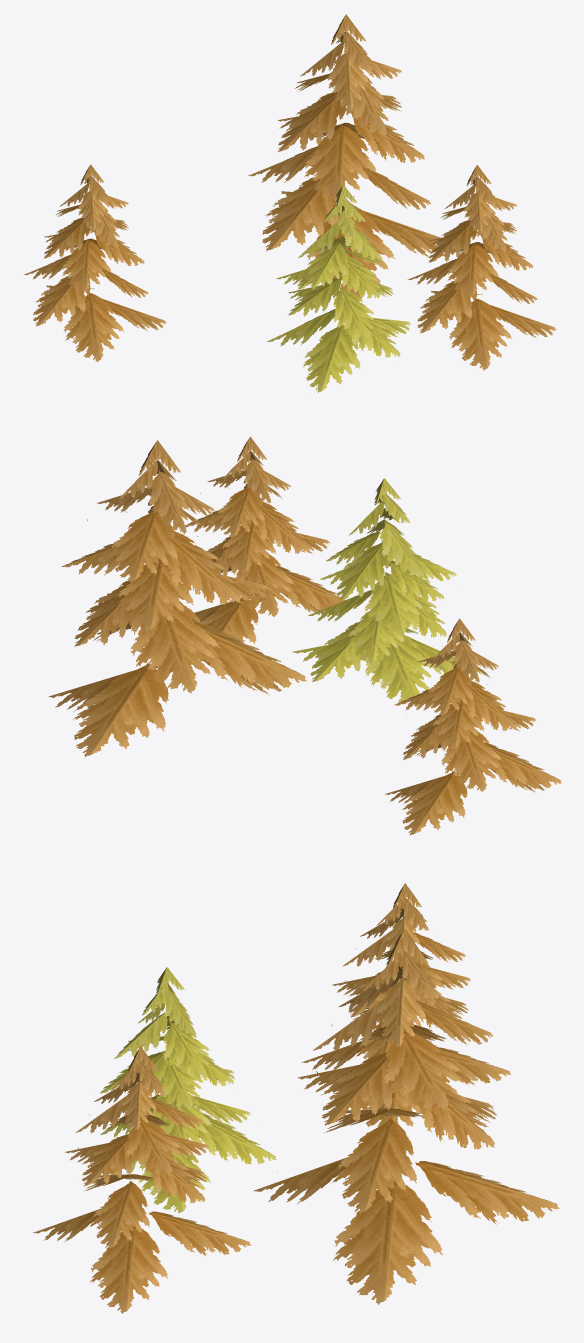
File: area_06_36.fbx
3 renders of one model, top to bottom at view 1: azimuth 30°, elevation 25°; view 2: azimuth 150°, elevation 25°; view 3: azimuth 270°, elevation 25°, orthographic. The views are drawn at different scales.
Parts seen in each view (by area): view 1: area_06_36; view 2: area_06_36; view 3: area_06_36.
Part boxes in pixels (x1,y1,x2,y2): area_06_36: [24, 14, 556, 398]; area_06_36: [48, 436, 561, 835]; area_06_36: [33, 883, 559, 1313].
Bounding box in the file's own units: 15.44 × 8.9 × 13.29.
